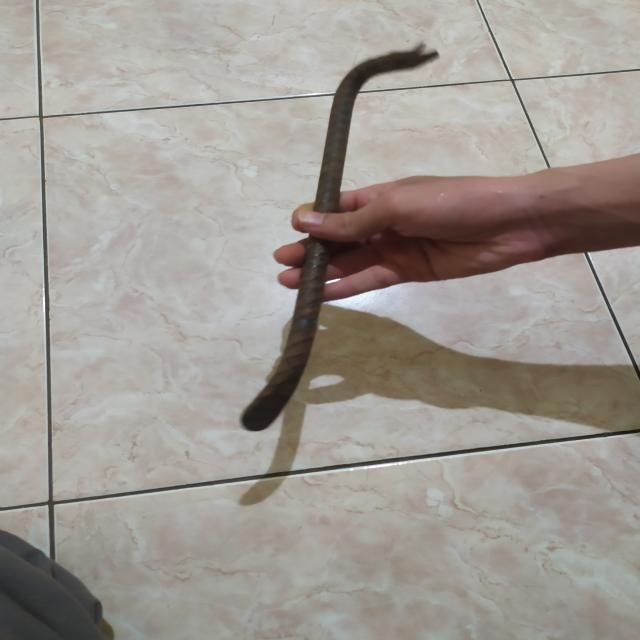Linggis: (242, 44, 436, 433)
